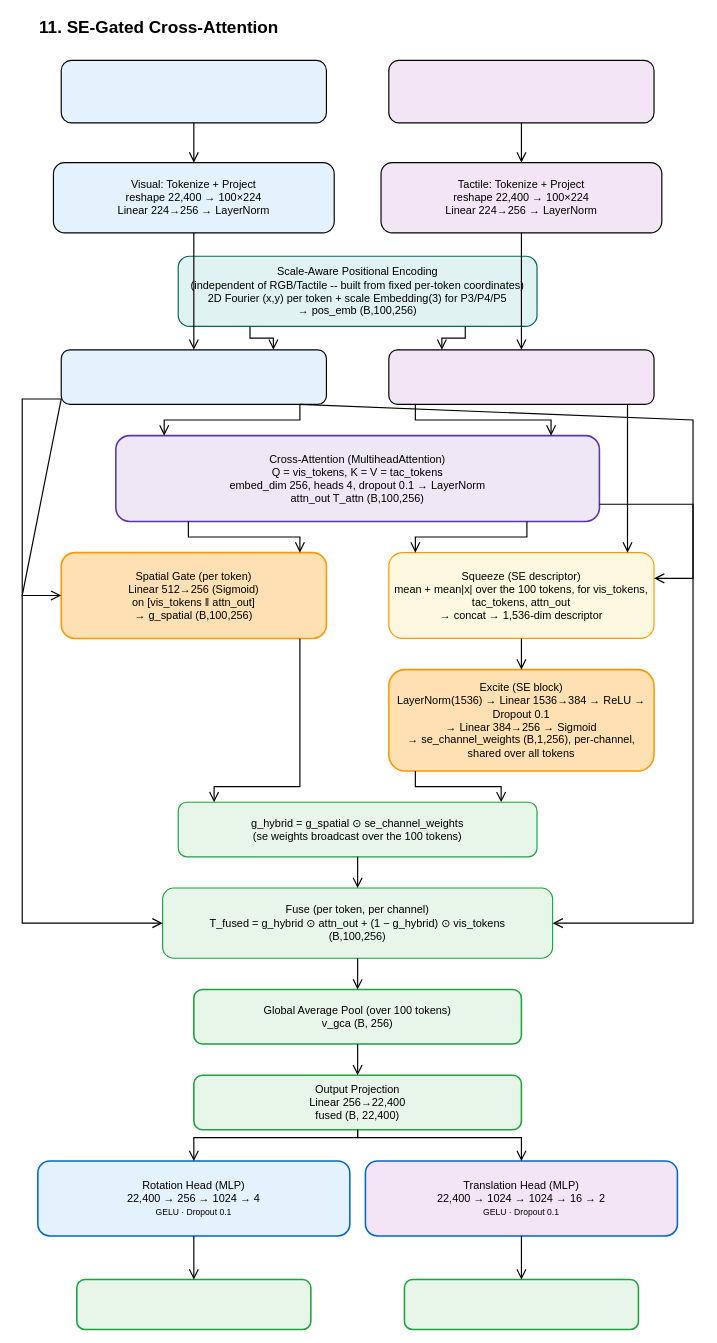
Some shapes in this 717 by 1343 pixel diagram are drawn without their labels. The centre of each missing label's shape, as x and y in pixels:
+ pos_emb → LayerNorm tac_tokens (B,100,256) [K,V]: point 521,377
+ pos_emb → LayerNorm vis_tokens (B,100,256) [Q]: point 193,377
Quaternion q L2-normalised, ℝ⁴: point 193,1304
RGB Features 22,400-dim: point 193,91
Tactile Features 22,400-dim: point 521,91
Translation Vector [ y , z ] x fixed to 0: point 521,1304
